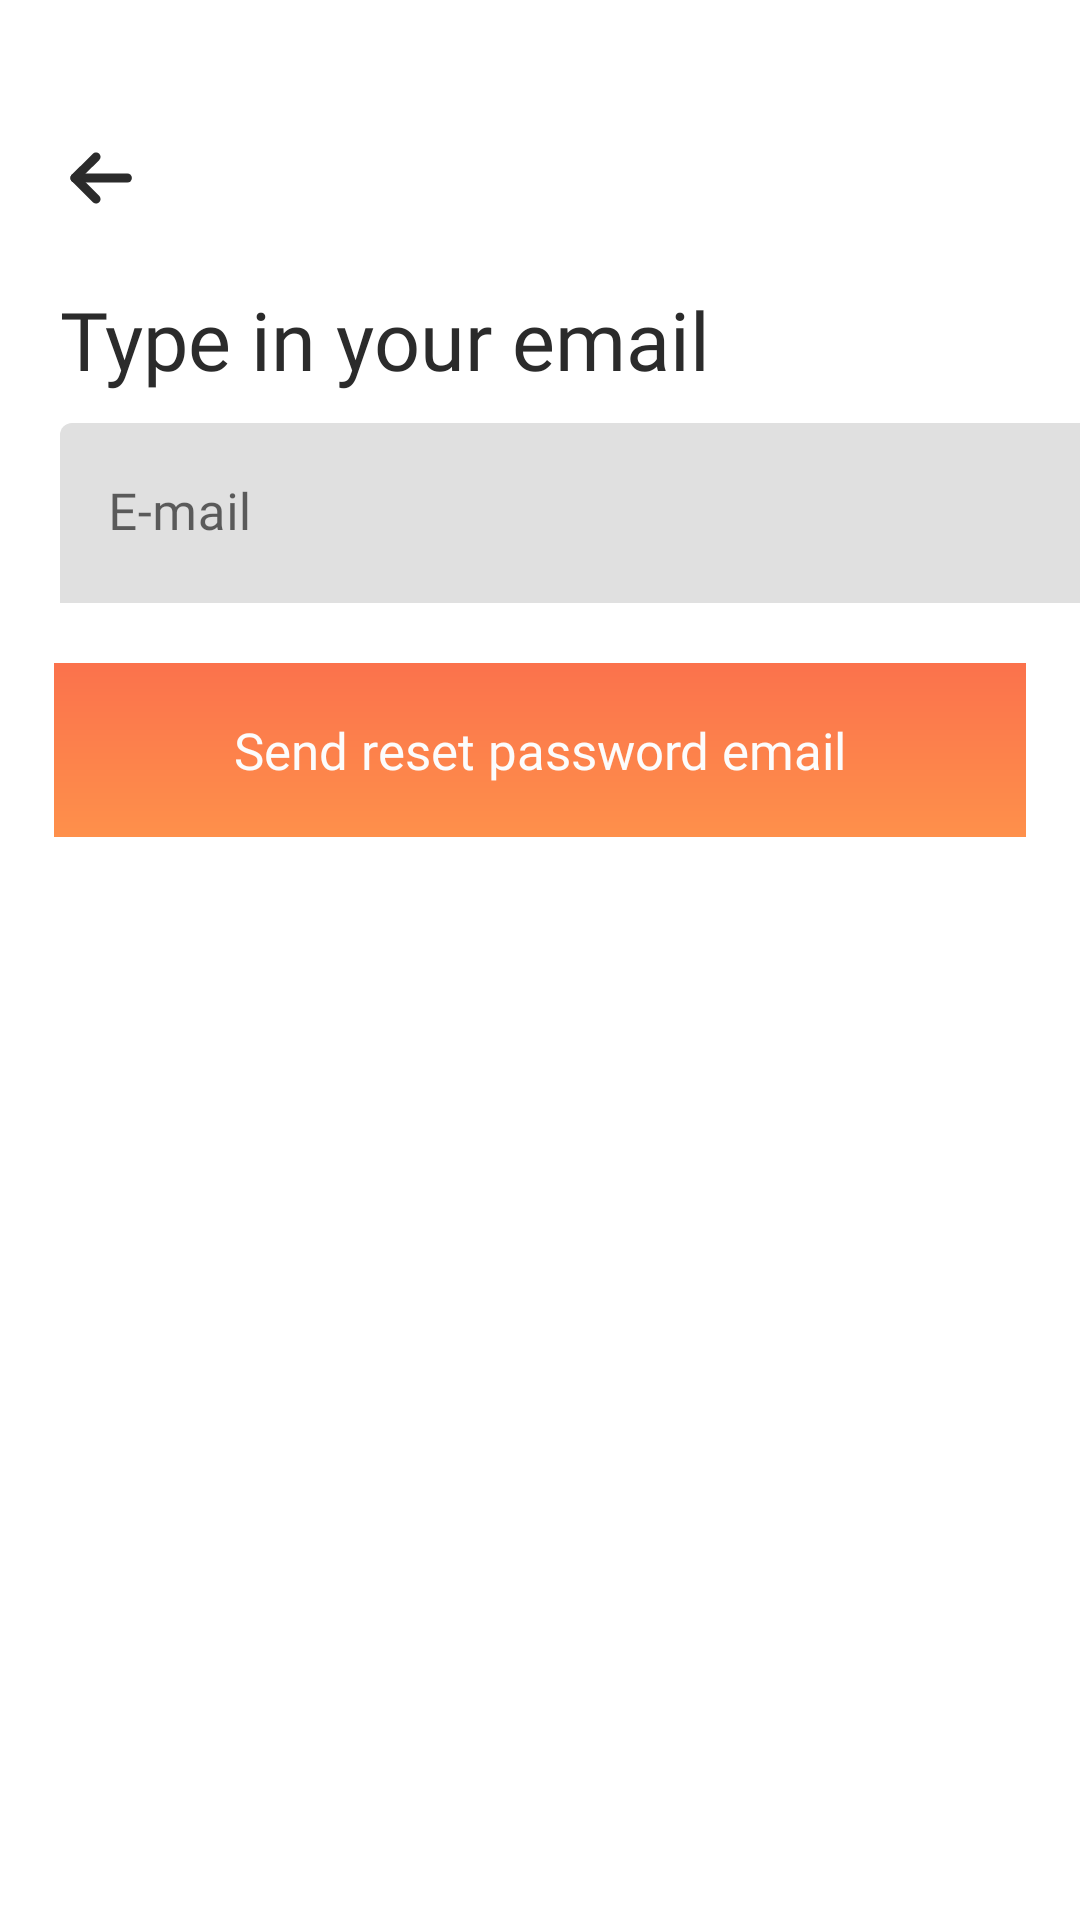

Icon bounding boxes for this 1080px x 1920px phone screenshot, format (x1, y1, x2, y2):
return: (70, 152, 132, 204)
